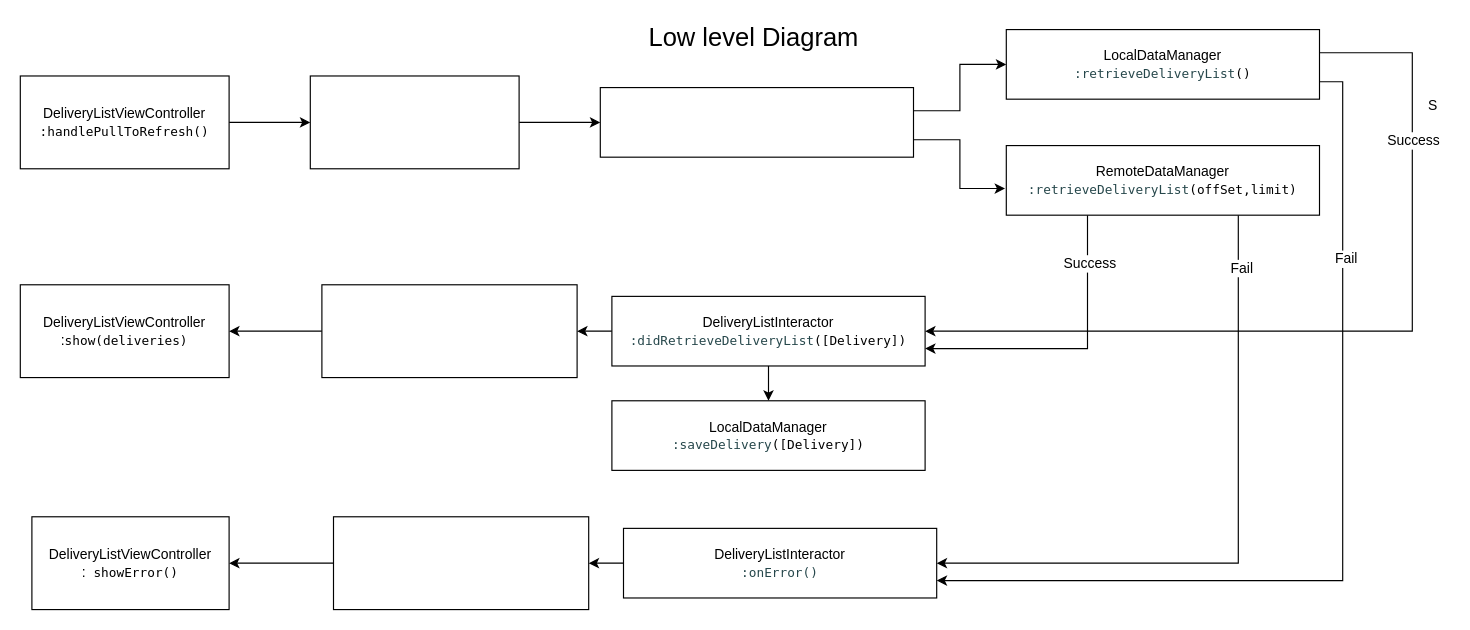
This 1470x630 diagram has some shape labels left out. Each missing label, with the centre of its shape:
DeliveryListInteractor :retrieveDeliveryList (offSet): pixel 756 121
DeliveryListViewPresenter : retrieveDeliveryList(): pixel 414 122
DeliveryListViewPresenter :didRetrieveDelivery( deliveries ): pixel 449 331
DeliveryListViewPresenter :onError( ): pixel 460 563
